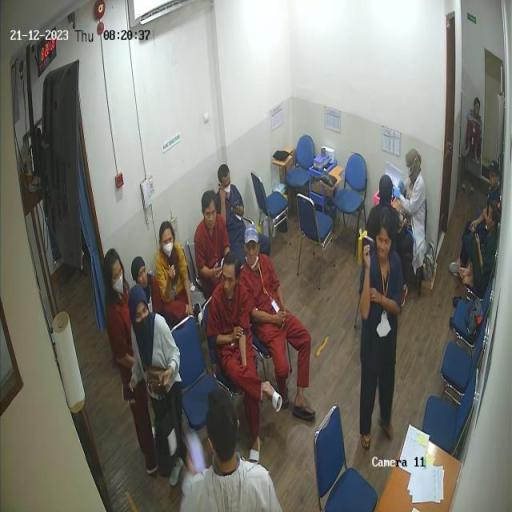person: (206, 252, 285, 465), (241, 226, 315, 421), (180, 390, 283, 512), (359, 210, 407, 451), (129, 286, 186, 487), (451, 161, 501, 279), (393, 148, 427, 307), (366, 175, 411, 285), (153, 222, 196, 329), (104, 250, 137, 388), (195, 191, 232, 301), (460, 202, 502, 289), (218, 164, 247, 270), (131, 256, 154, 308), (465, 98, 483, 164)
